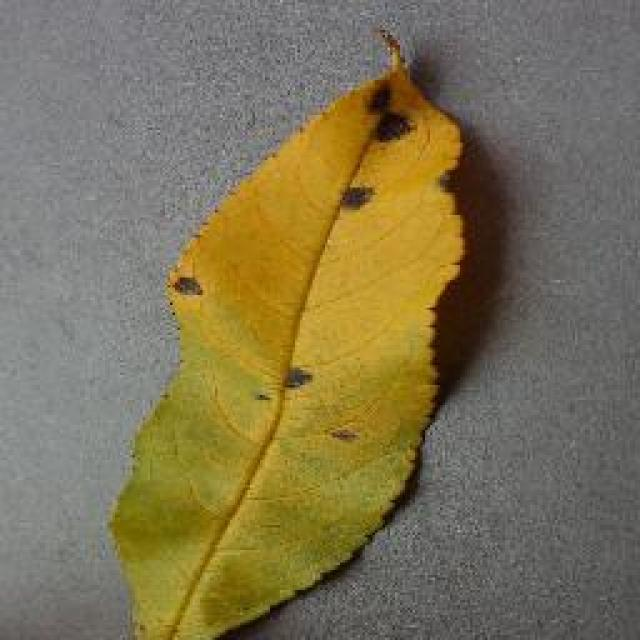Peach_Bacterial_Spot: (278, 134, 412, 478)
